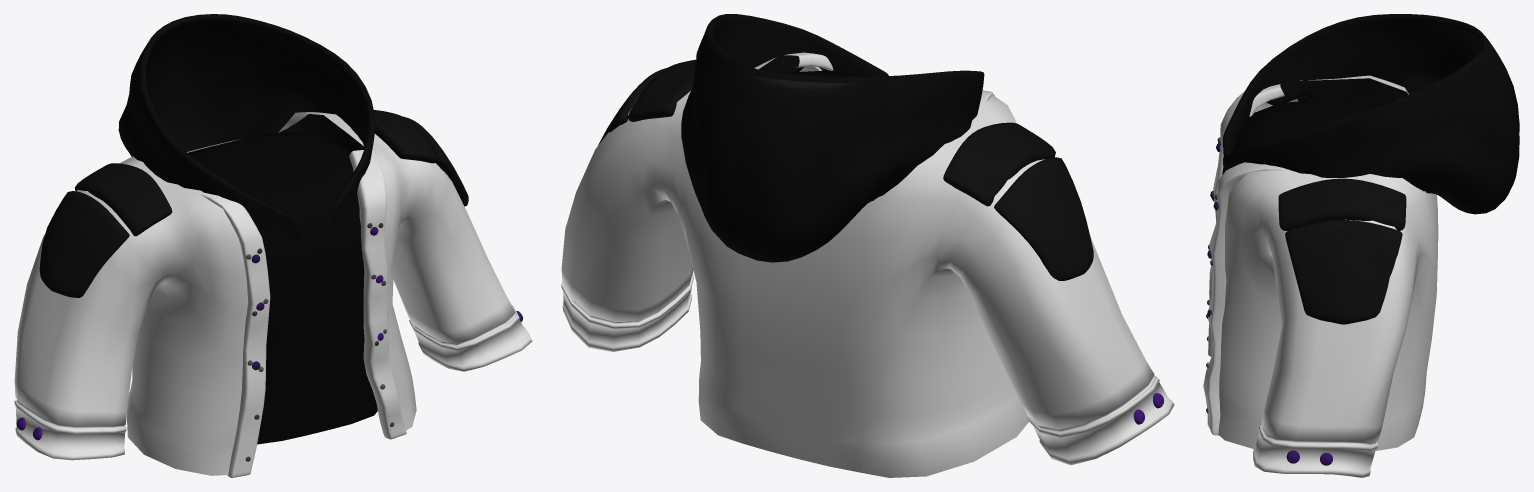
File: Cyber Moon Top.glb
3 renders of one model, left to right at view 1: azimuth 30°, elevation 25°; view 2: azimuth 150°, elevation 25°; view 3: azimuth 270°, elevation 25°, orthographic. The views are drawn at different scales.
Visible parts, largest first — view 1: Jacket; view 2: Jacket; view 3: Jacket.
Boxes of the visible parts, x1=… form: Jacket: x1=14, y1=14, x2=532, y2=477; Jacket: x1=561, y1=14, x2=1174, y2=477; Jacket: x1=1203, y1=14, x2=1519, y2=477.
Size of the model in its own units: 0.836 by 0.5725 by 0.4561.
3 materials, 3 textured.
